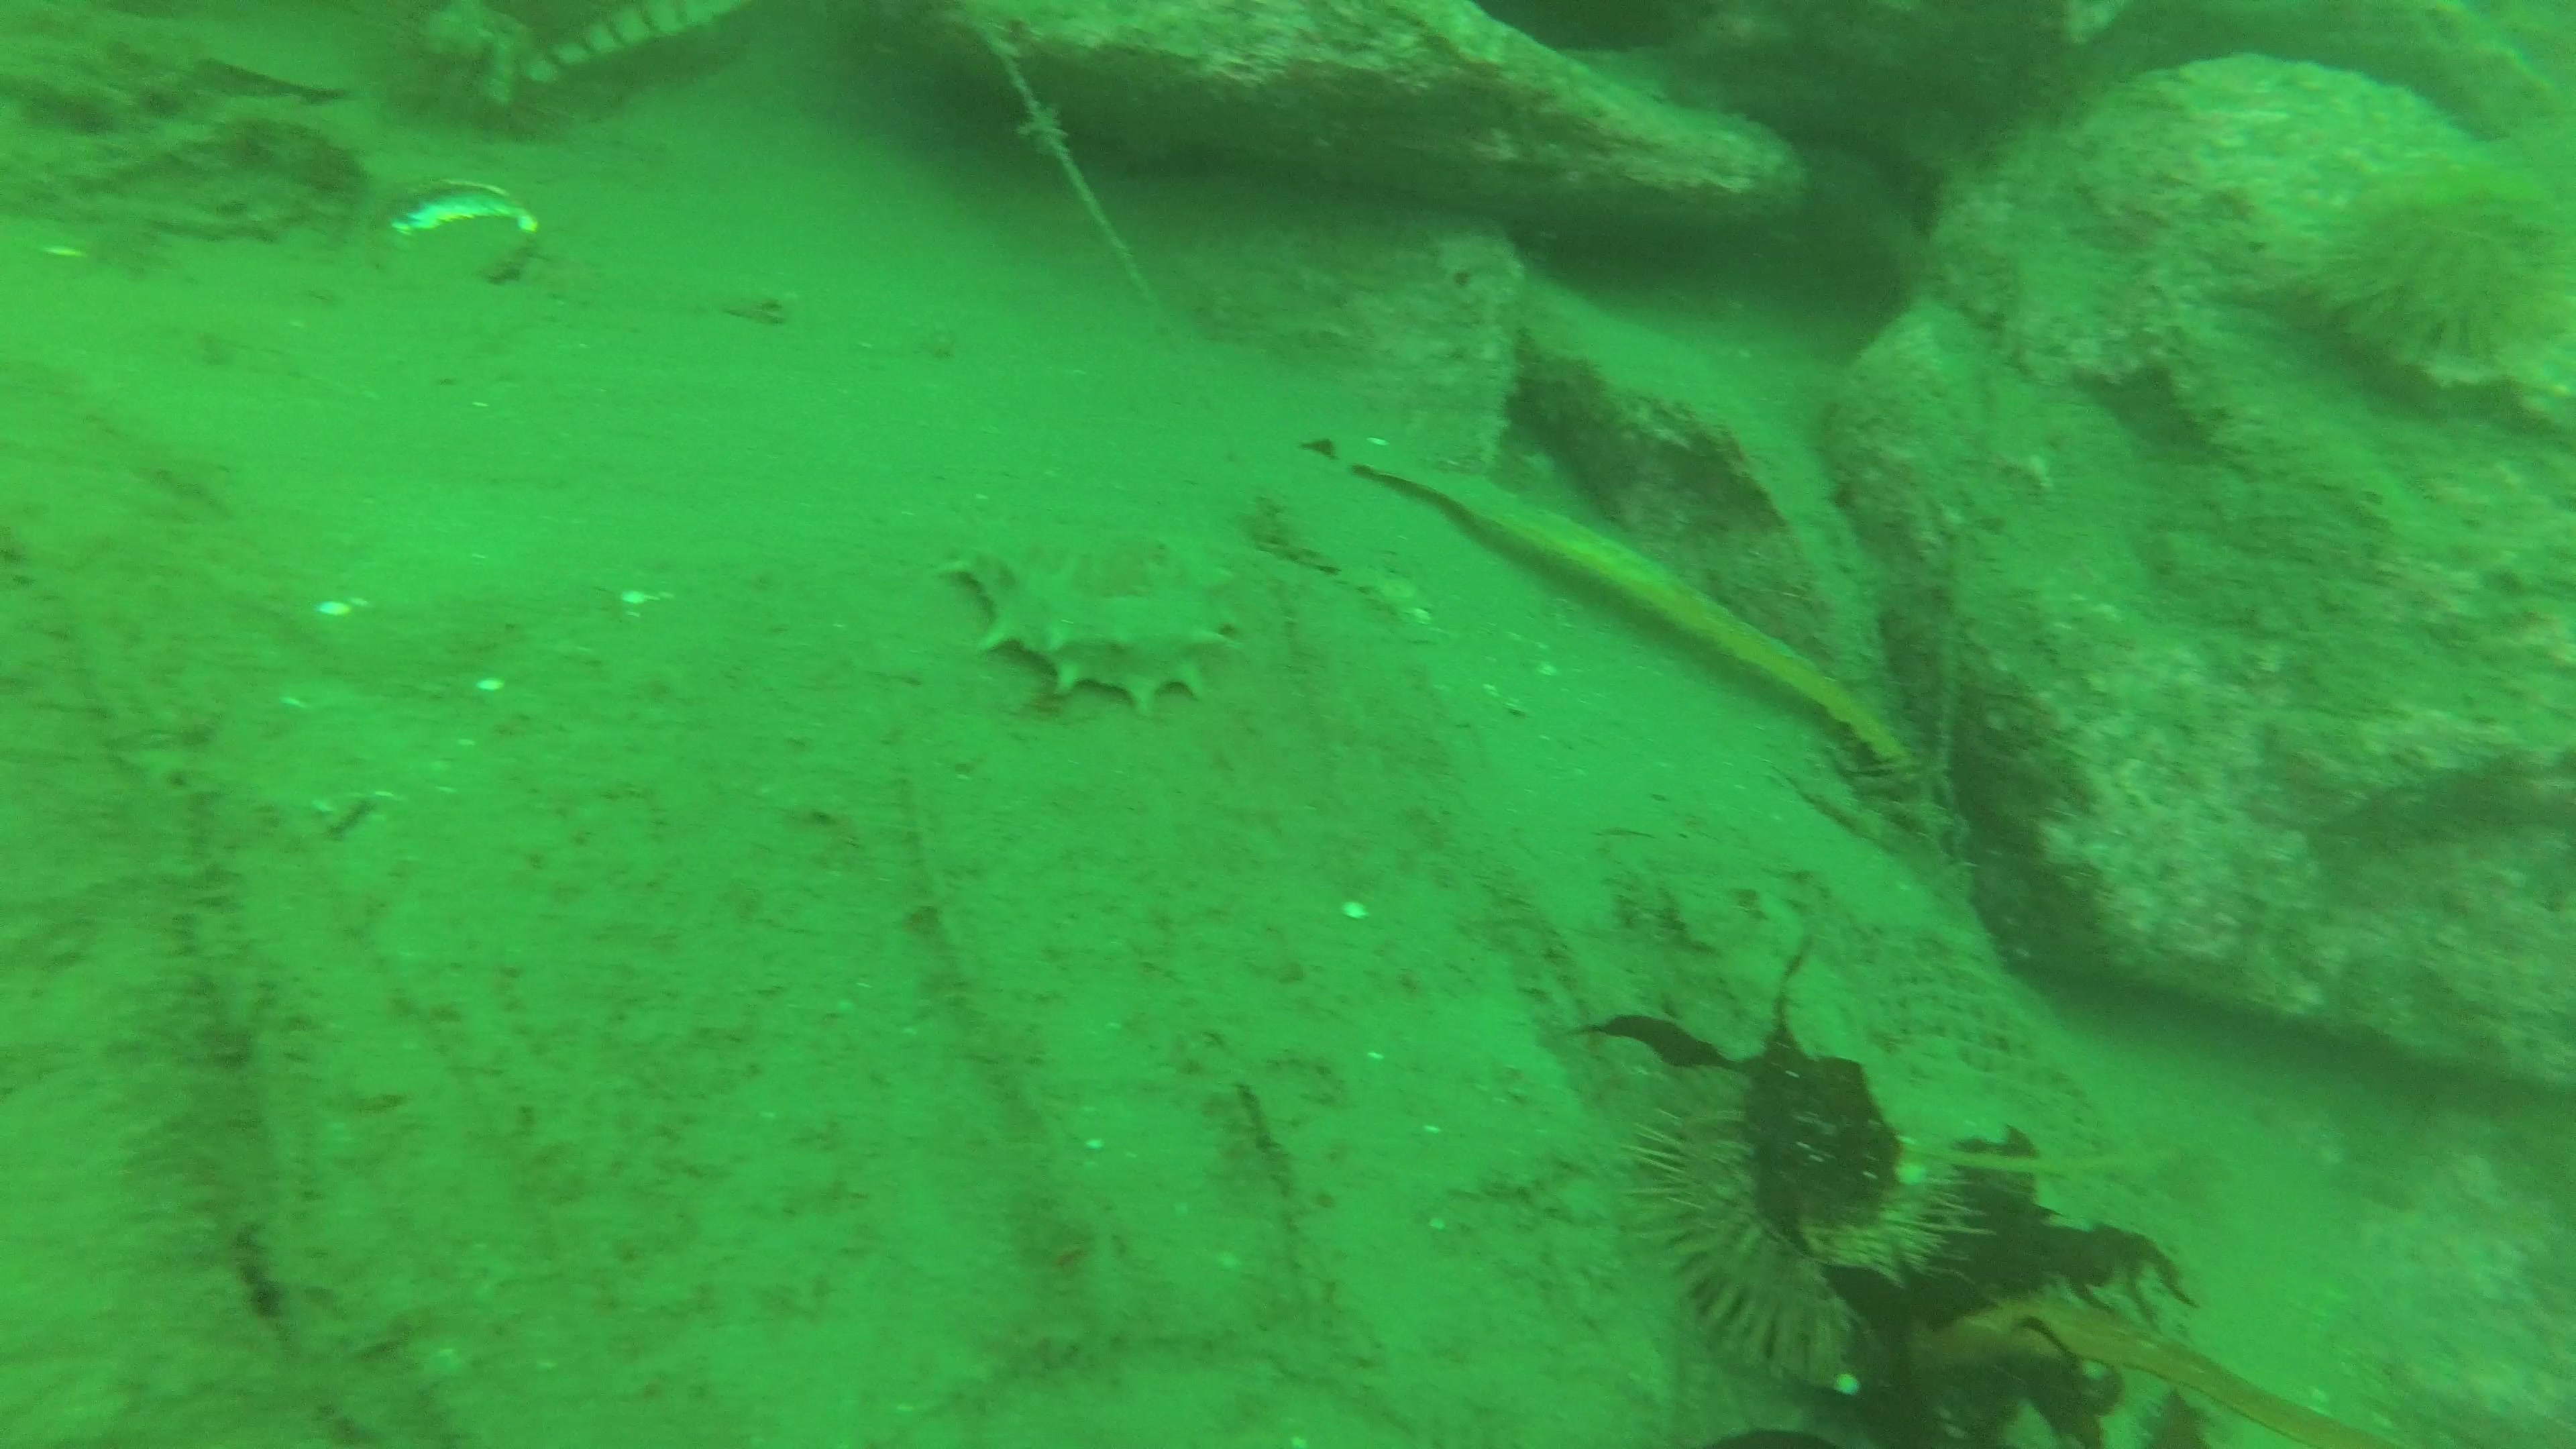echinus: (1622, 1109, 1996, 1387), (2307, 145, 2571, 387)
holothurian: (938, 550, 1246, 715)
